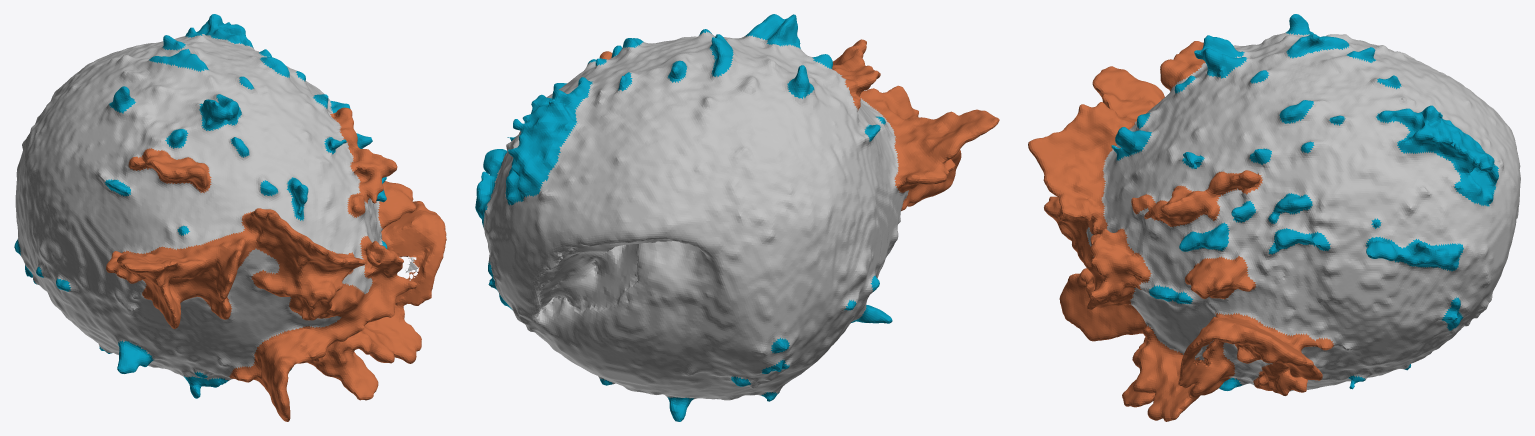
3 views of the same model, side by side, from view 1: azimuth 30°, elevation 25°; view 2: azimuth 150°, elevation 25°; view 3: azimuth 270°, elevation 25° (orthographic). The views are drawn at different scales.
Bounding box in the file's own units: 161 × 132 × 177.
